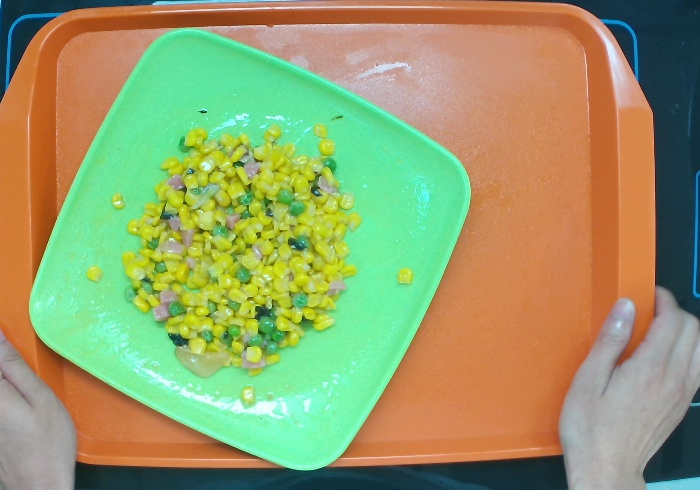ZNLD-Lv_Fang_Pan: (29, 27, 475, 473)
